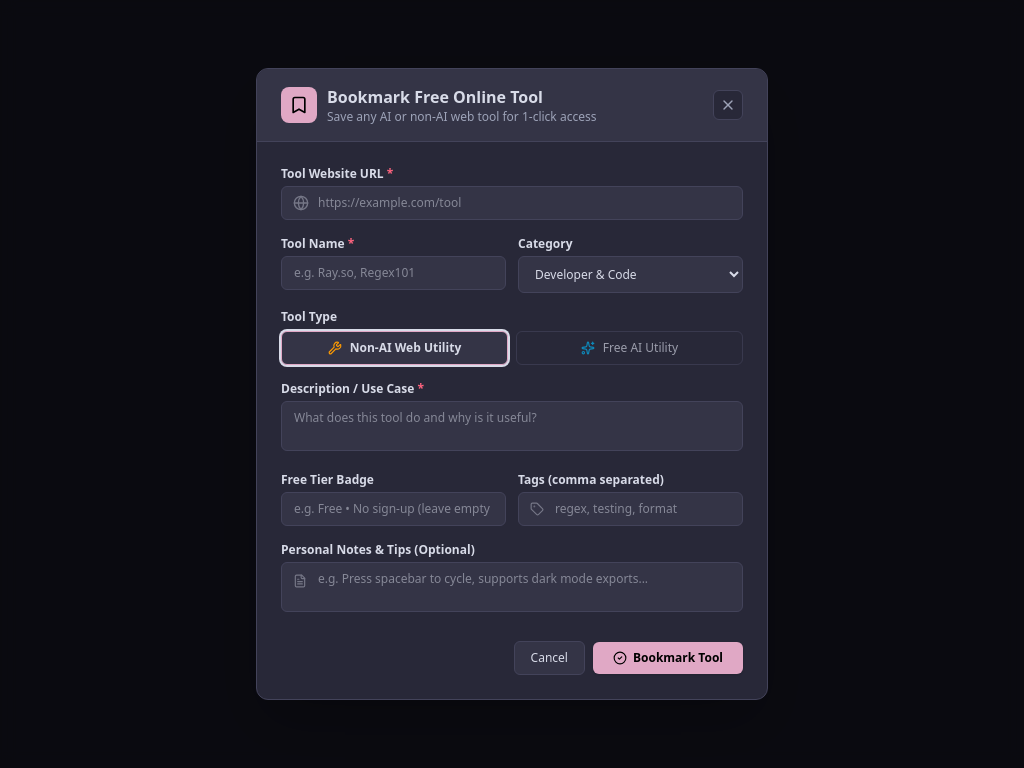
Test case: AddBookmarkModal: adding › refuses javascript:, ftp: and other non-web links
Step 1. Type "Bad" into the field with placeholder "e.g. Ray.so, Regex101" → {"x": 394, "y": 273}, box x1=281 y1=256 x2=506 y2=290
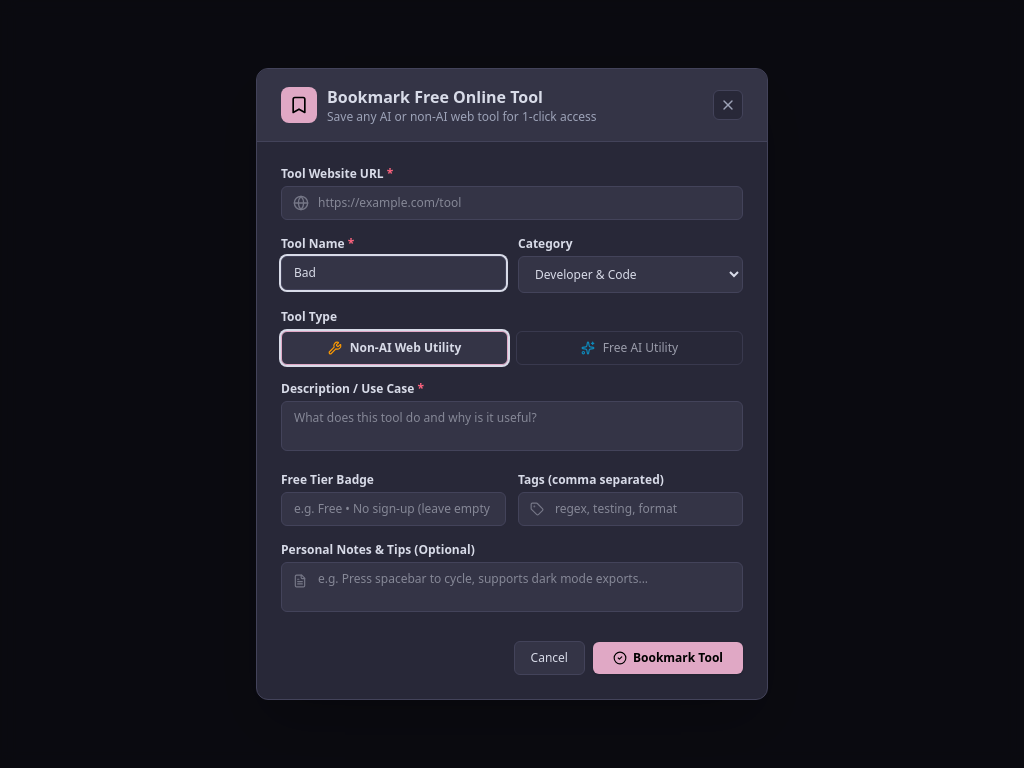
Step 2. Type "x" into the text box with placeholder "What does this tool do and why is it useful?" → {"x": 512, "y": 426}, box x1=281 y1=401 x2=743 y2=451
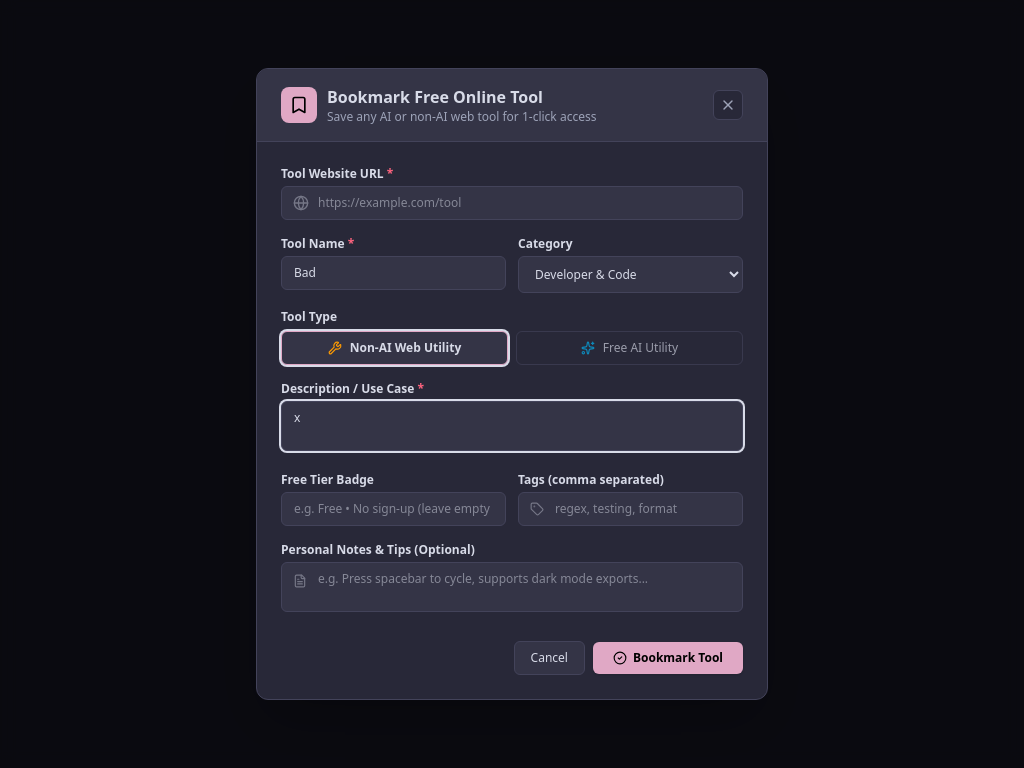
Step 3. Type "javascript:alert(1)" into the field with placeholder "https://example.com/tool" → {"x": 512, "y": 203}, box x1=281 y1=186 x2=743 y2=220
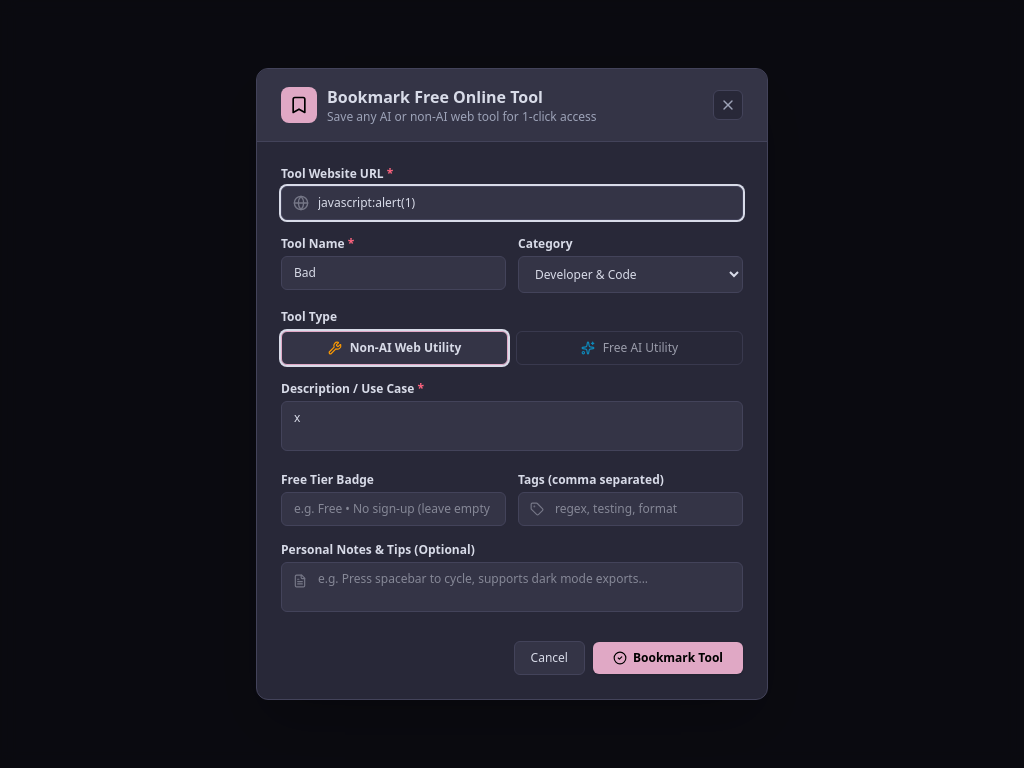
Step 4. Click the submit button → {"x": 668, "y": 658}, box x1=593 y1=642 x2=743 y2=674
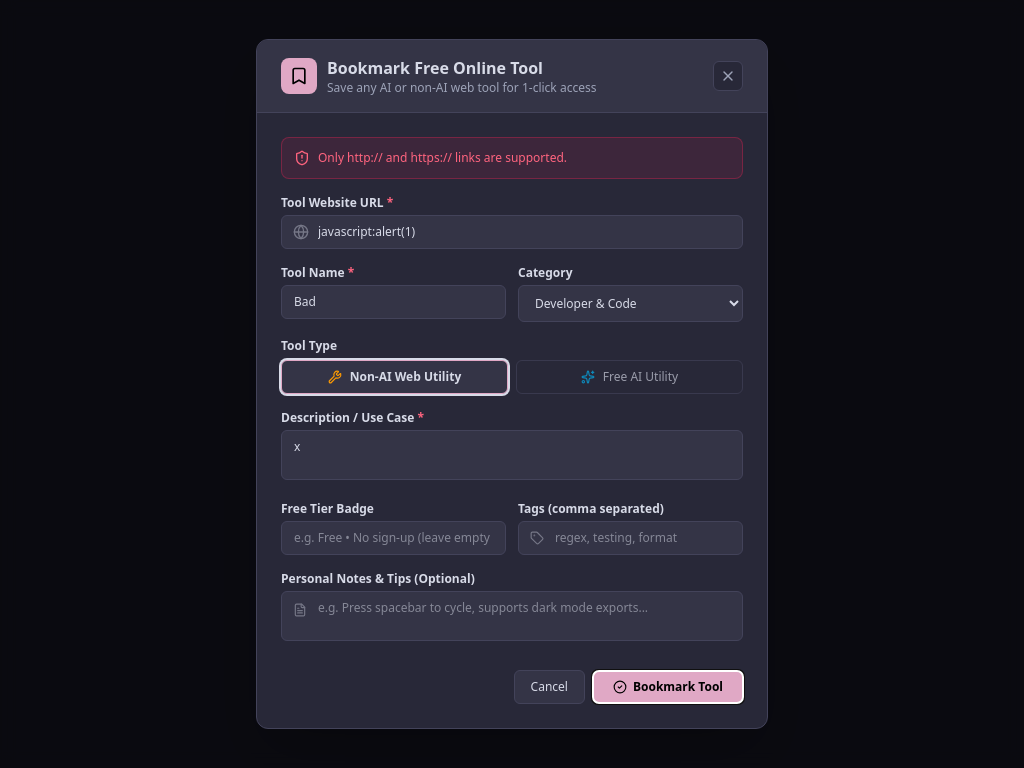
Now the text "Only http:// and https:// links are supported." is shown, box x1=318 y1=150 x2=567 y2=166
